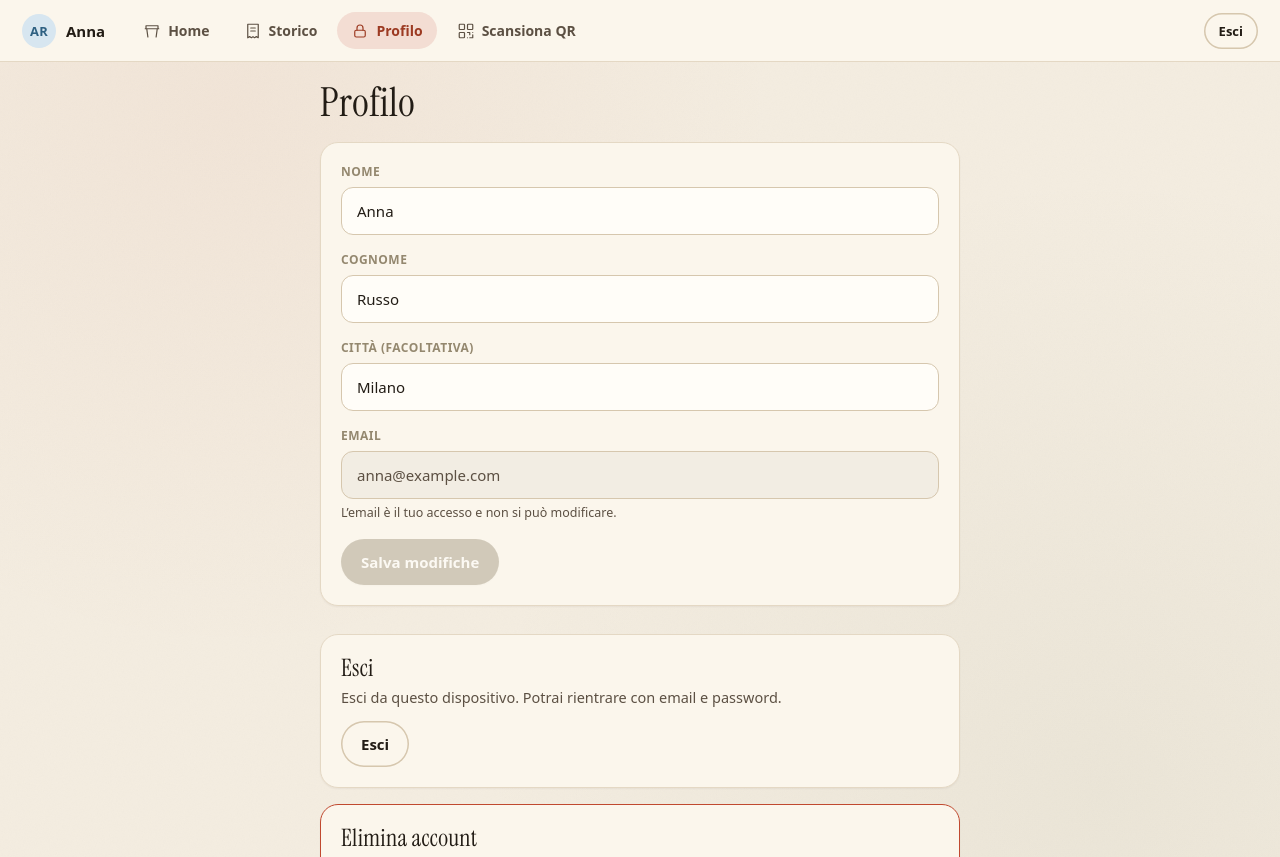
Test case: profilo: dati › nome vuoto: non si invia
Clear the field labelled "Nome": point(640, 211) [341,187,939,235]
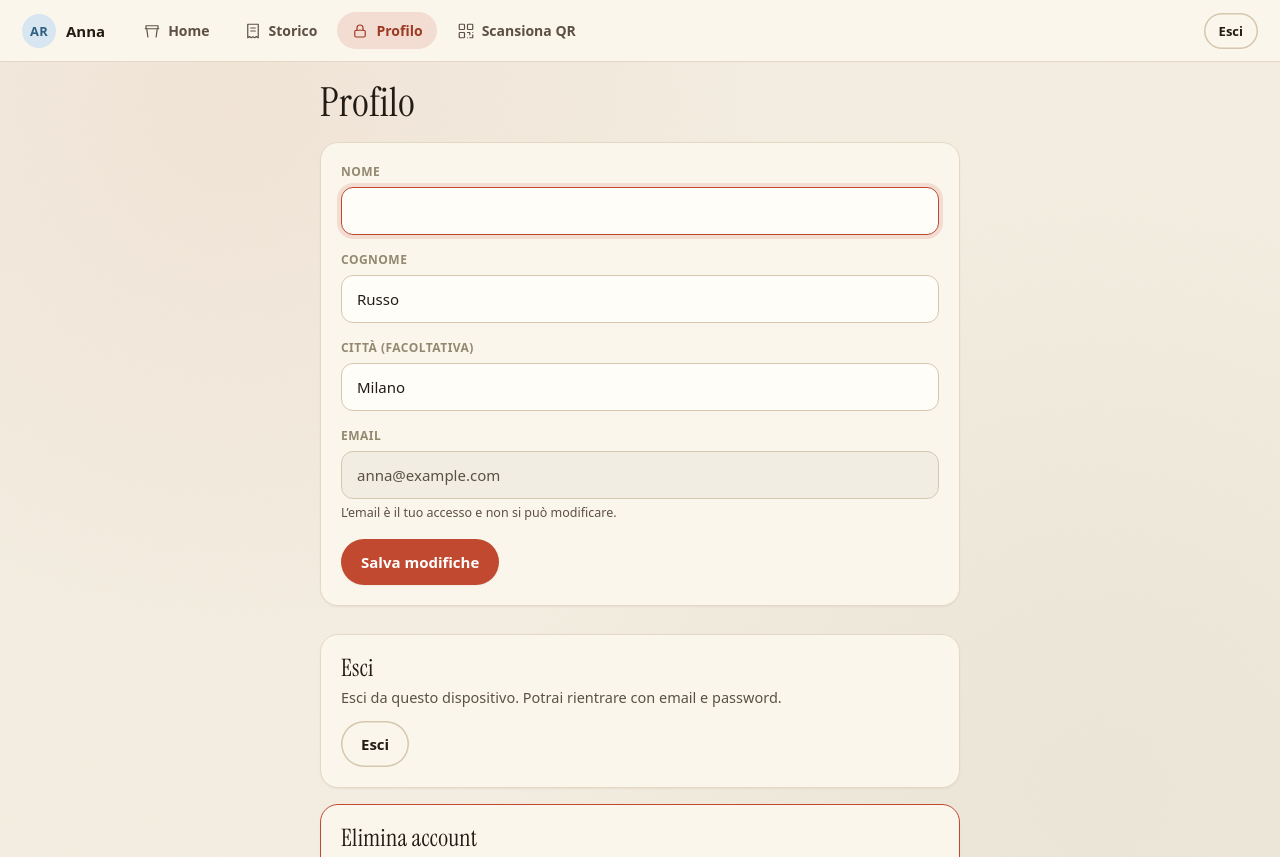
Click the button "Salva modifiche": point(420, 562) [341,539,499,585]
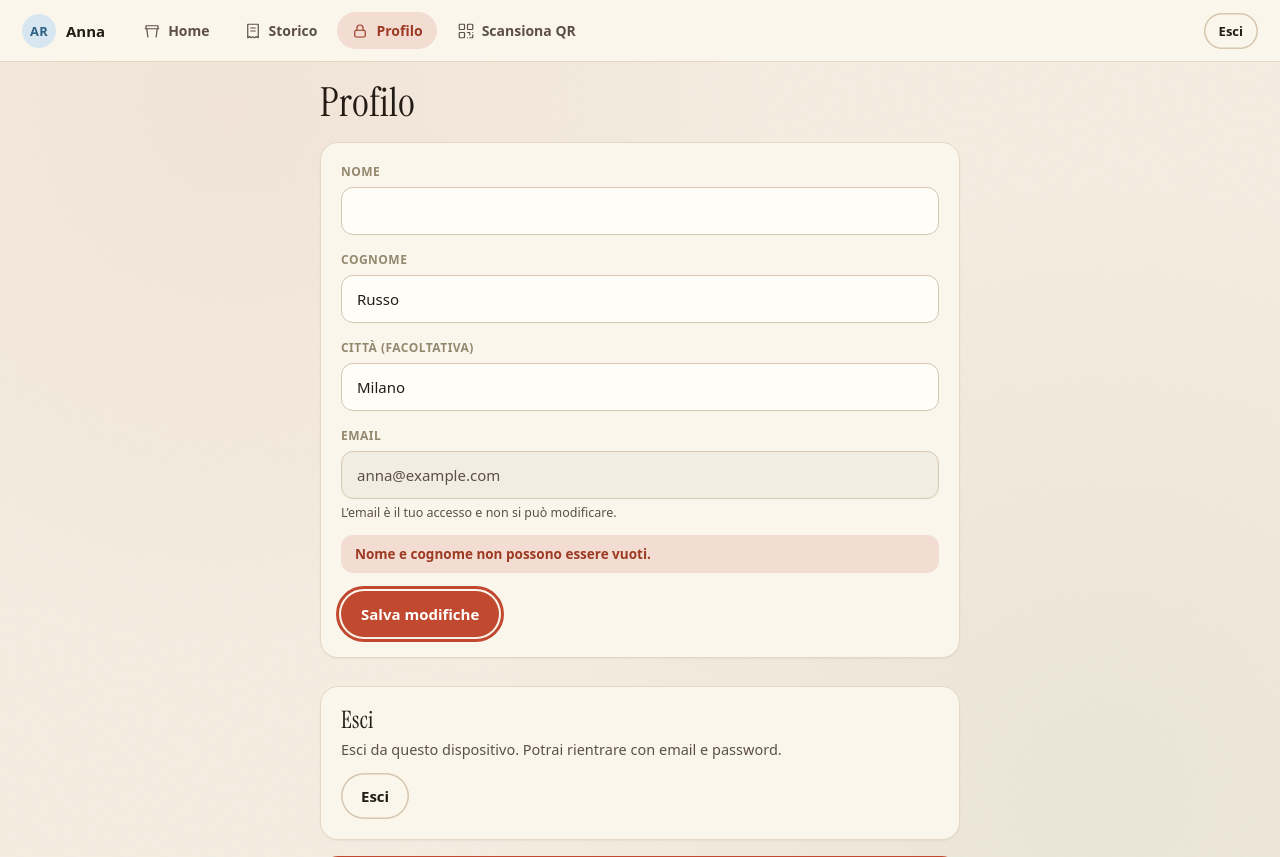
Expected: the message shows "Nome e cognome", [355,545,651,563]
